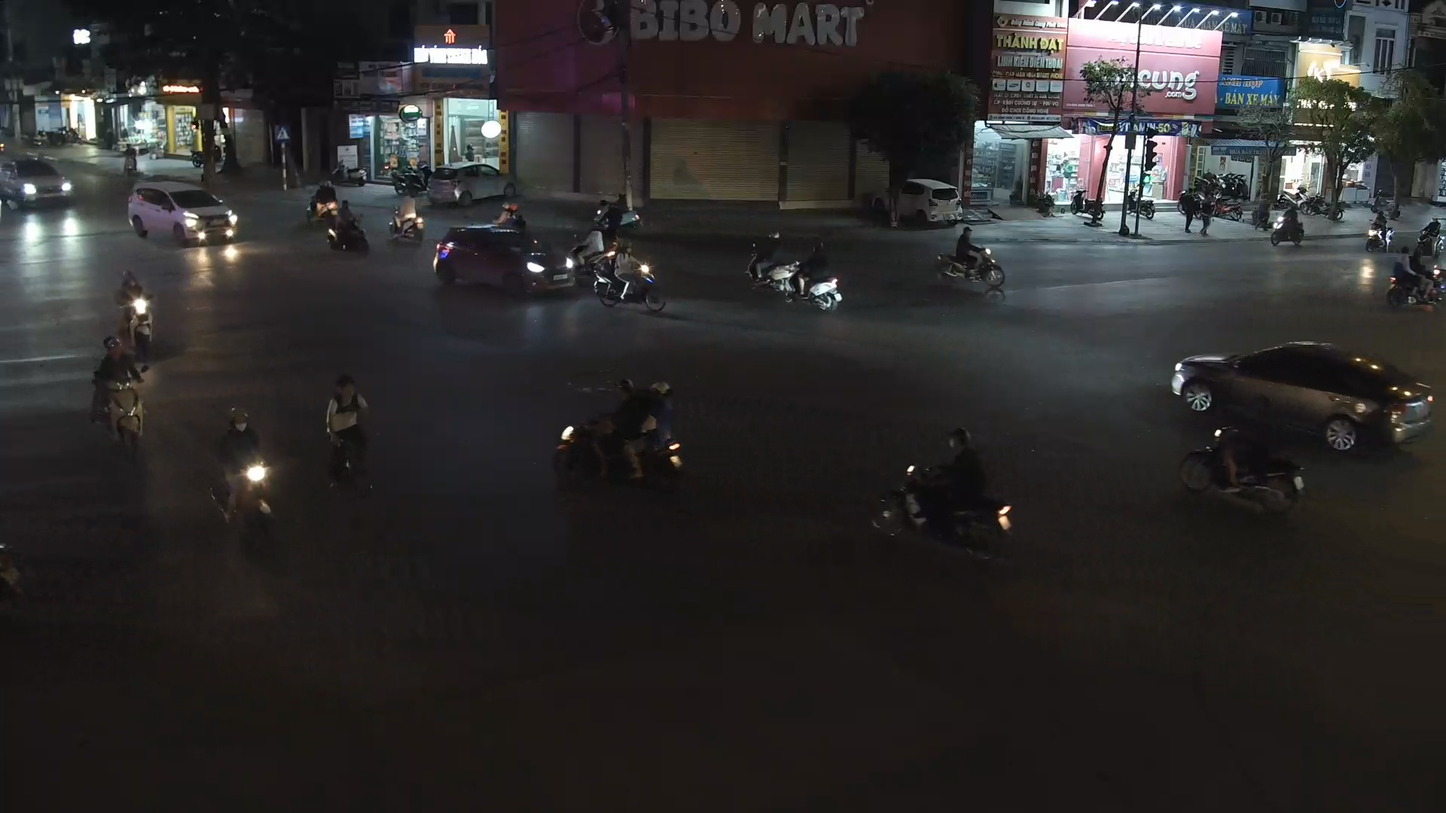car: (1171, 341, 1436, 455), (432, 221, 577, 297), (126, 180, 240, 246), (0, 150, 74, 214)
motorbike: (870, 423, 1017, 556), (1175, 393, 1309, 517), (551, 375, 687, 493), (207, 406, 279, 547), (88, 334, 151, 455), (322, 371, 374, 489), (931, 222, 1009, 298), (593, 242, 666, 312), (779, 236, 845, 313), (115, 269, 157, 356), (325, 204, 372, 255), (388, 196, 426, 244)
